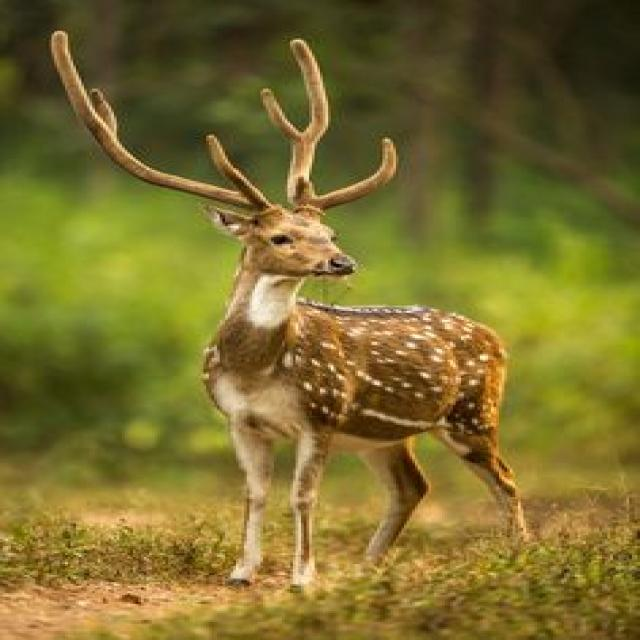Herbivorous: (49, 33, 521, 598)
